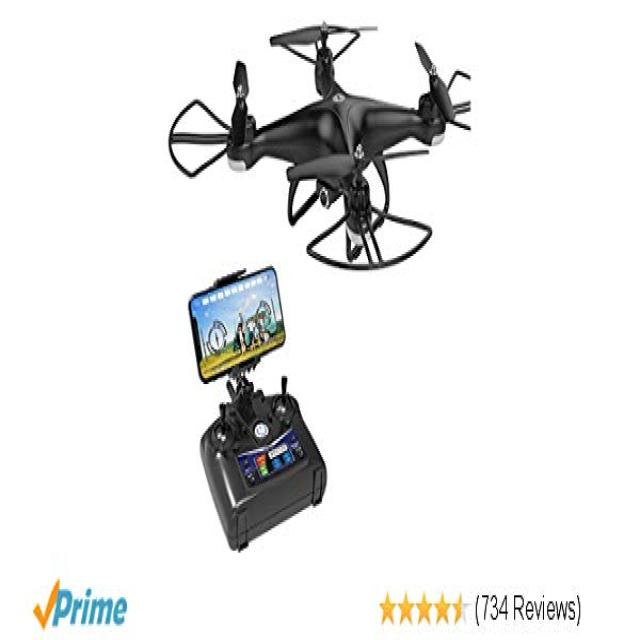drone: (168, 18, 486, 301)
